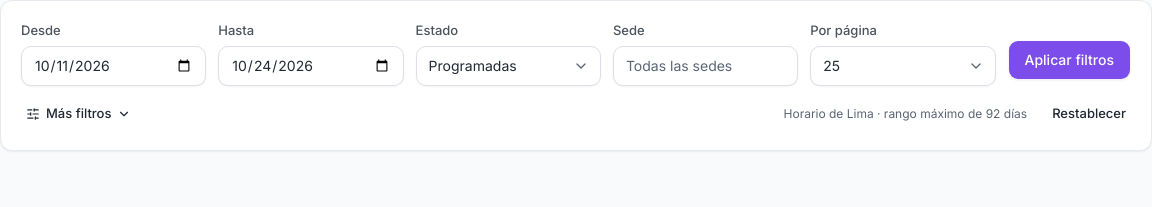
Filtros de reservas (HU-03) › impide aplicar una fecha final anterior a la inicial
Step 1. Type "2026-12-10" into the date field labelled "Desde" → (114, 66), box [21,46,206,86]
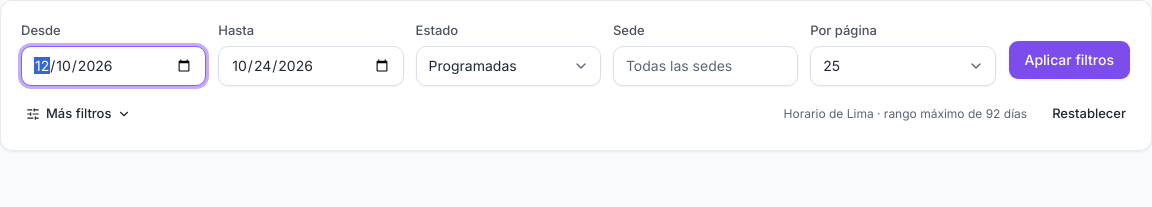
Step 2. Type "2026-12-01" into the date field labelled "Hasta" → (311, 66), box [218,46,404,86]
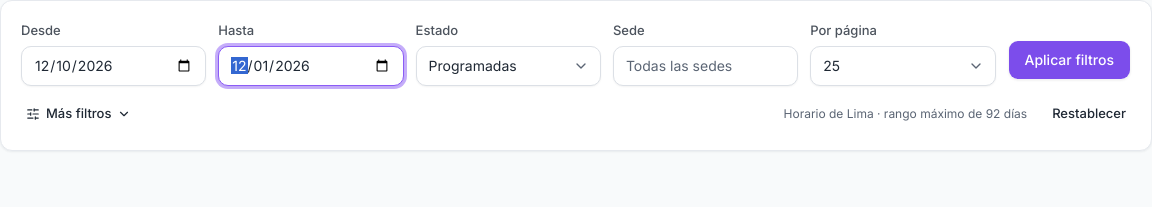
Step 3. Click the button "Aplicar filtros" → click(1069, 60), box [1008,40,1131,80]
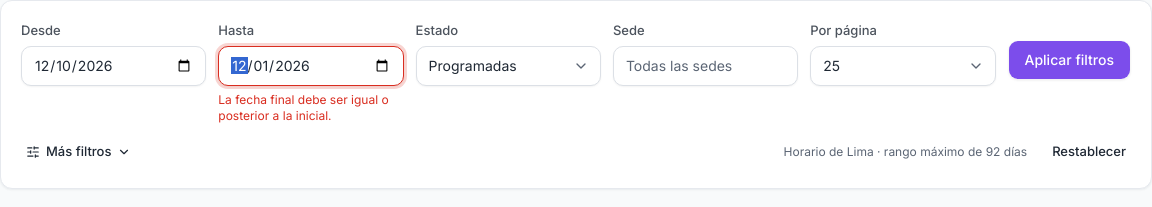
Result: the text "La fecha final debe ser igual o posterior a la inicial." is shown at [218,92,404,124]
